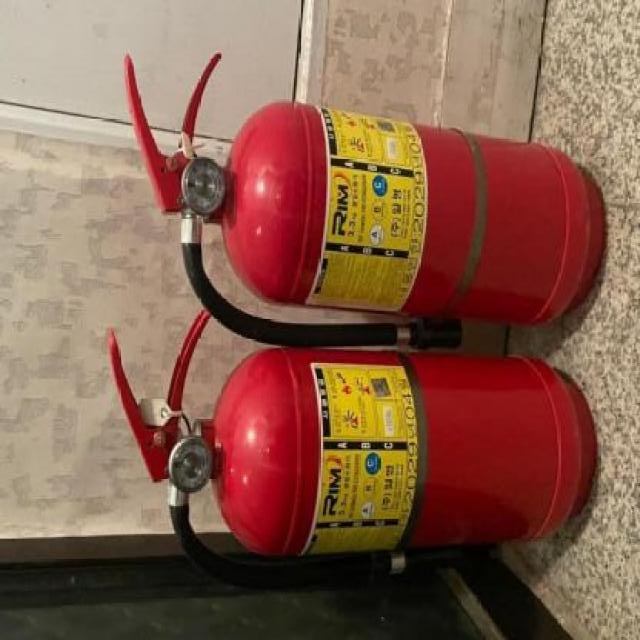fire extinguisher: (123, 51, 608, 352), (103, 308, 594, 587)
